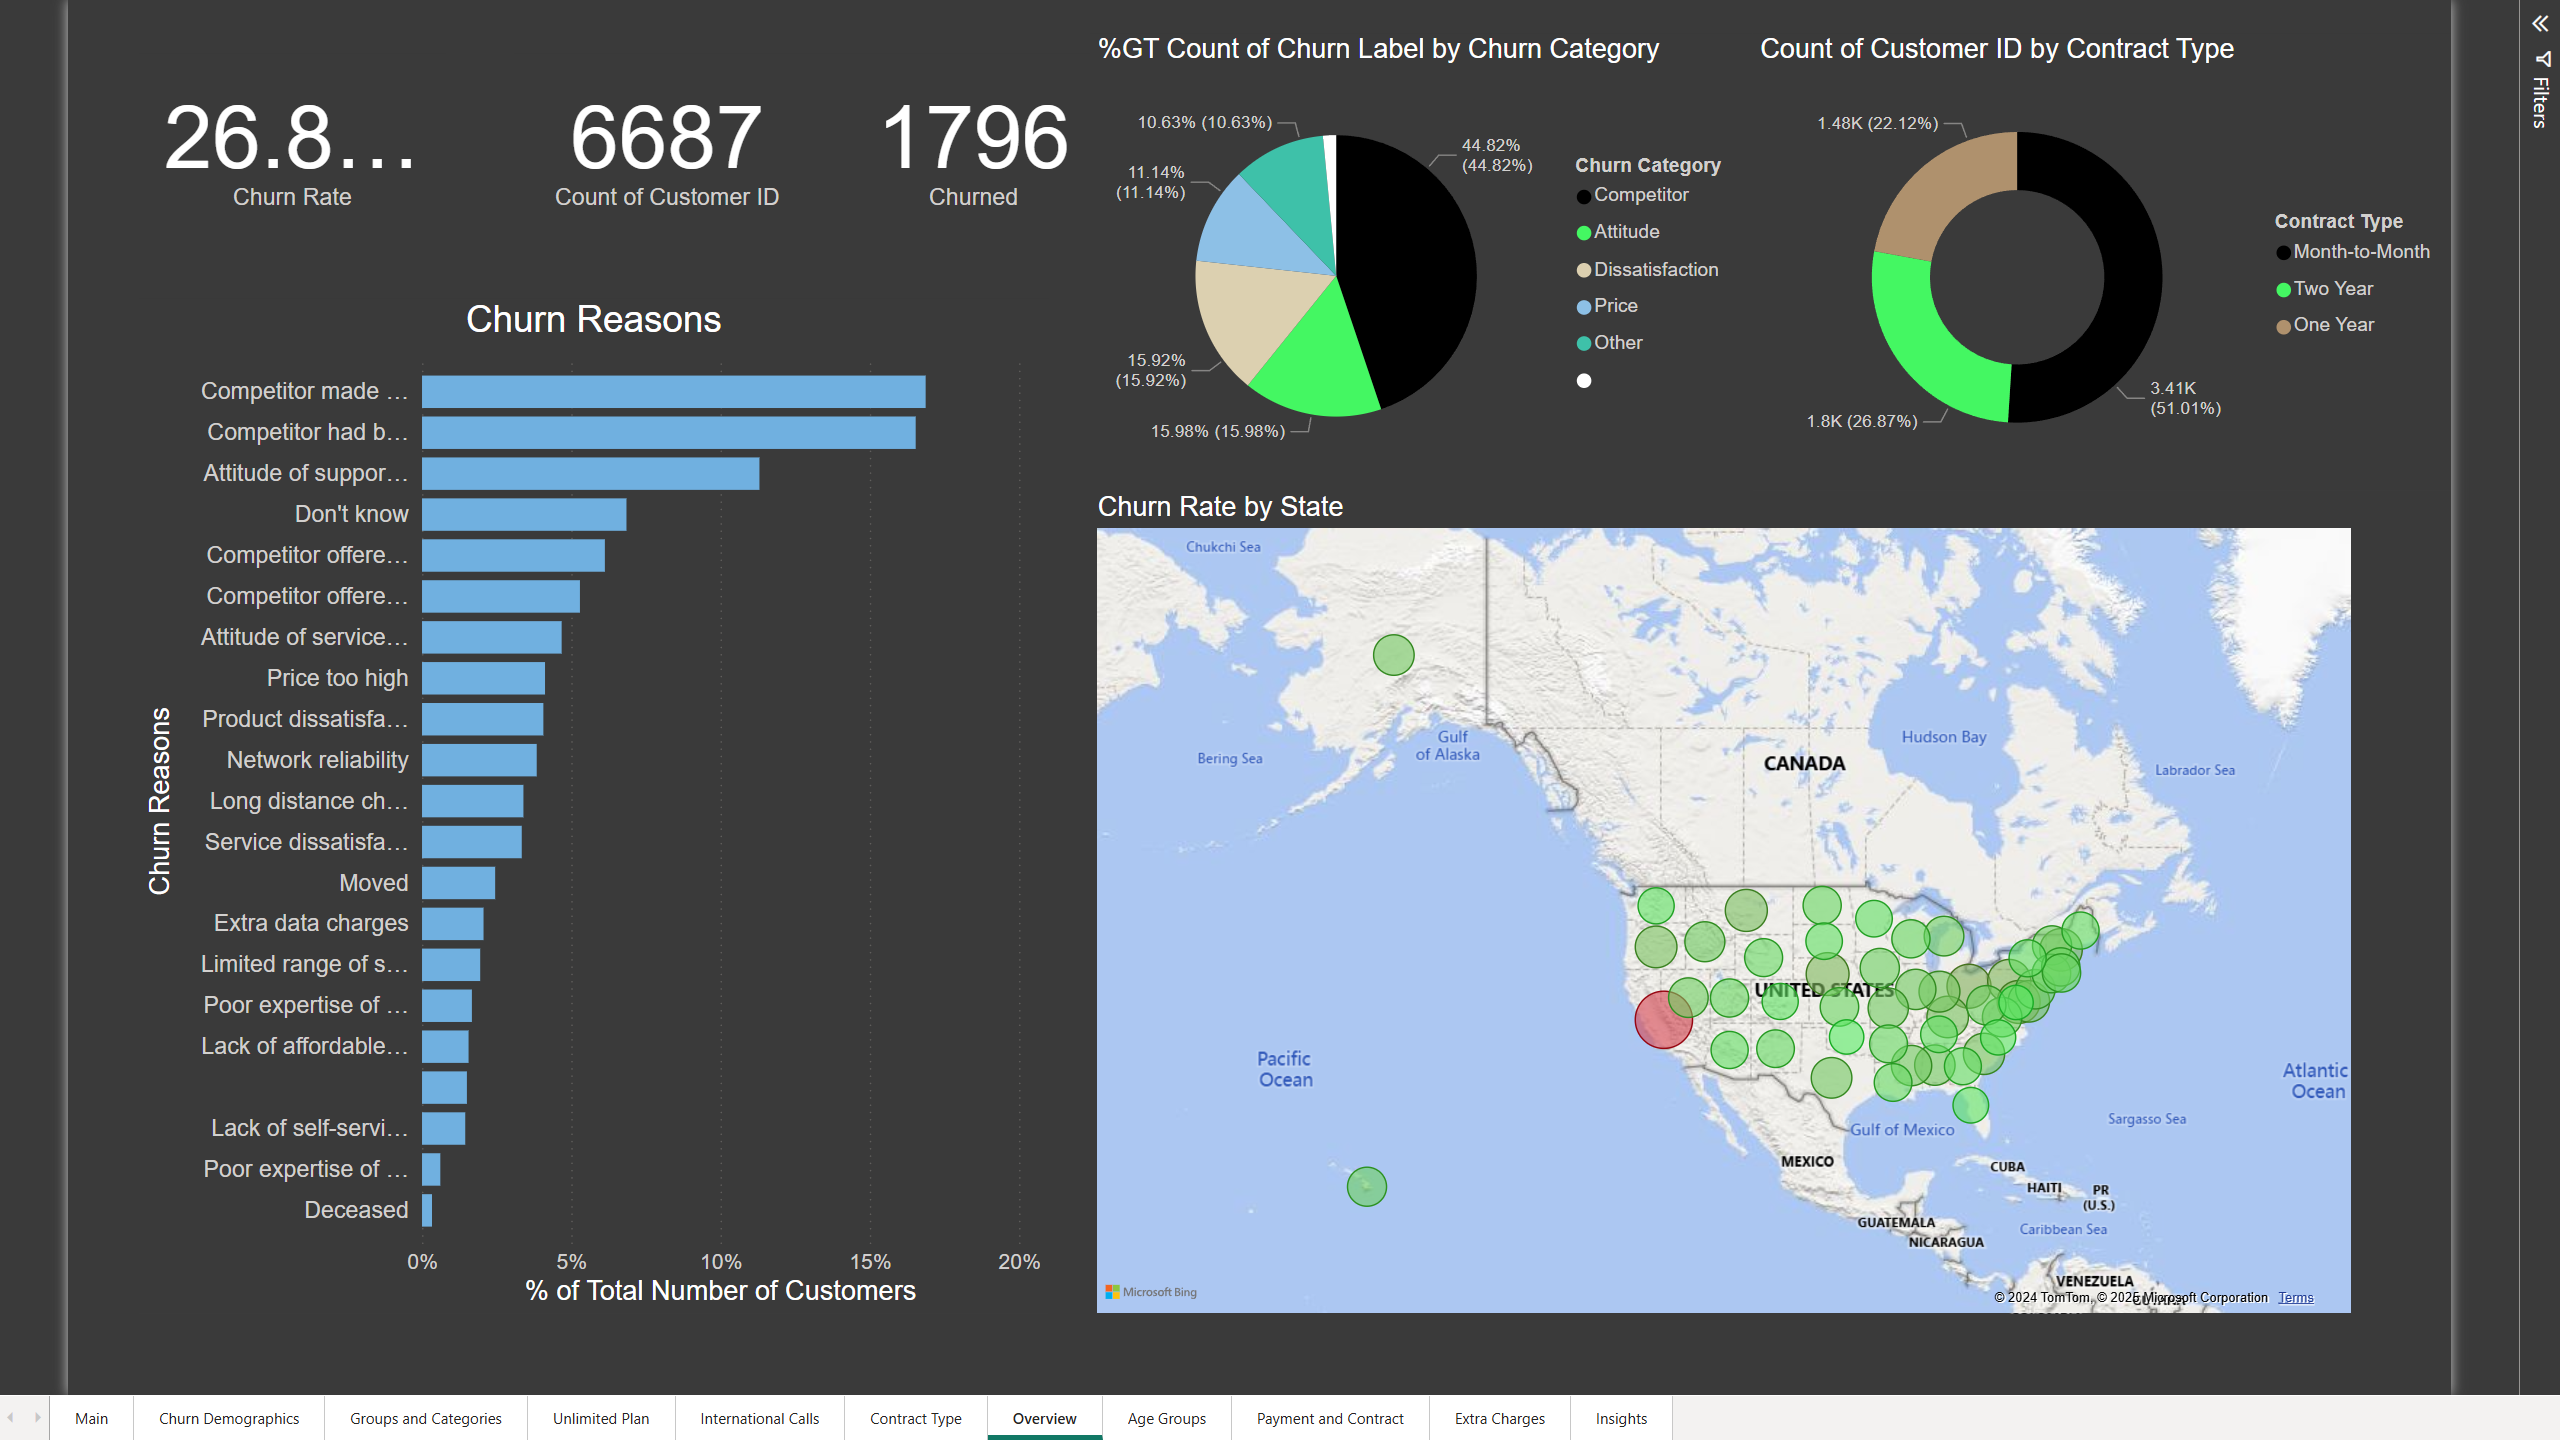

This screenshot's page, from the dashboard's own definition file:
{"tool":"powerbi","page":{"name":"Overview","canvas":[1640,960],"ordinal":6},"visuals":[{"type":"card","fields":{"Values":["Databel - Data.Churn Rate"]},"box":[48.9,37.1,211.2,123.2],"z":0},{"type":"card","fields":{"Values":["Count(Databel - Data.Customer ID)"]},"box":[307,37.1,211.2,123.2],"z":1000},{"type":"card","fields":{"Values":["Sum(Databel - Data.Churned)"]},"box":[518.1,37.1,211.2,123.2],"z":2000},{"type":"clusteredBarChart","title":"Churn Reasons","fields":{"Category":["Databel - Data.Churn Reason"],"Y":["CountNonNull(Databel - Data.Number of Customers in Group)"]},"box":[48.9,205.3,625.7,698],"z":3000},{"type":"donutChart","fields":{"Y":["Count(Databel - Data.Customer ID)"],"Category":["Databel - Data.Contract Type"]},"box":[1159.4,23.5,481,314.8],"z":4000},{"type":"pieChart","fields":{"Category":["Databel - Data.Churn Category"],"Y":["CountNonNull(Databel - Data.Churn Label)"]},"box":[703.9,23.5,455.6,312.8],"z":5000},{"type":"map","fields":{"Category":["Databel - Data.State"],"Size":["Databel - Data.Churn Rate"]},"box":[703.9,338.2,872,570.9],"z":6000}]}

Visuals, with their boxes on the page's 1640x960 design canvas (x1, y1, x2, y2). These are canvas units, not pixel positions in the 2560x1440 screenshot, which may show the page scaled, cropped or inside an application window:
card - Databel - Data.Churn Rate: [49, 37, 260, 160]
card - Count(Databel - Data.Customer ID): [307, 37, 518, 160]
card - Sum(Databel - Data.Churned): [518, 37, 729, 160]
"Churn Reasons" clusteredBarChart: [49, 205, 675, 903]
donutChart - Count(Databel - Data.Customer ID) x Databel - Data.Contract Type: [1159, 24, 1640, 338]
pieChart - Databel - Data.Churn Category x CountNonNull(Databel - Data.Churn Label): [704, 24, 1160, 336]
map - Databel - Data.State x Databel - Data.Churn Rate: [704, 338, 1576, 909]
